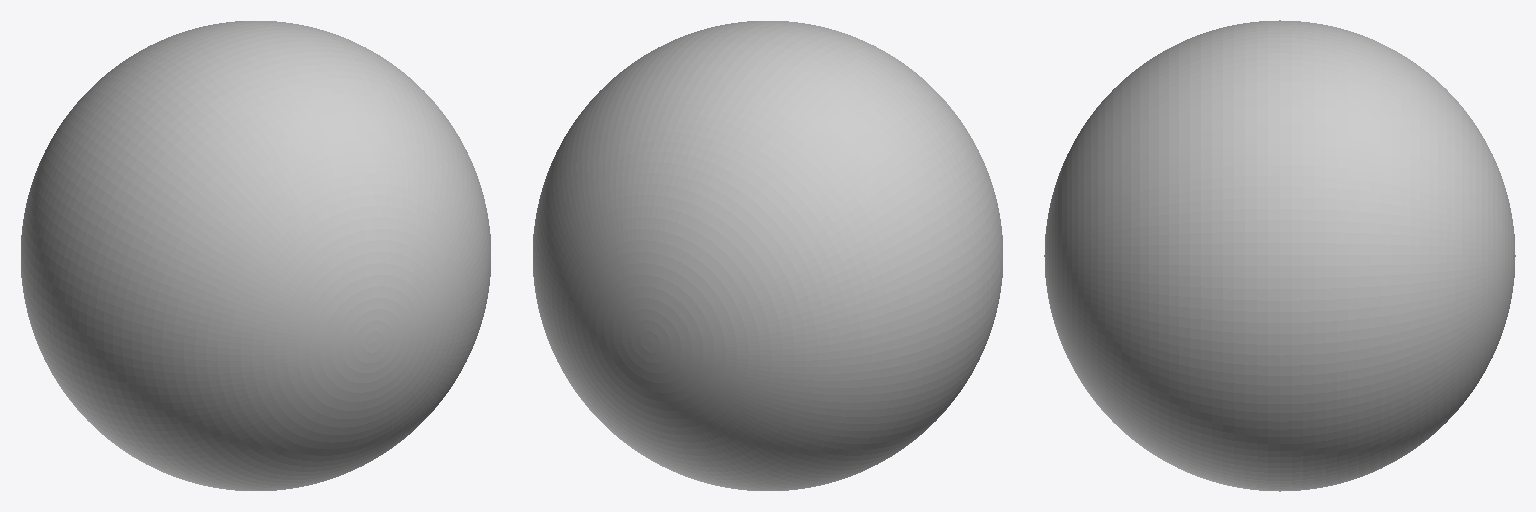
The model's file is earth.obj.
3 renders of one model, left to right at view 1: azimuth 30°, elevation 25°; view 2: azimuth 150°, elevation 25°; view 3: azimuth 270°, elevation 25°, orthographic.
Parts seen in each view (by area): view 1: Sphere_Sphere.002; view 2: Sphere_Sphere.002; view 3: Sphere_Sphere.002.
Boxes of the visible parts, x1=… form: Sphere_Sphere.002: x1=21, y1=21, x2=490, y2=490; Sphere_Sphere.002: x1=533, y1=21, x2=1002, y2=490; Sphere_Sphere.002: x1=1044, y1=20, x2=1515, y2=491.
Size of the model in its own units: 12742 by 12742 by 12742.